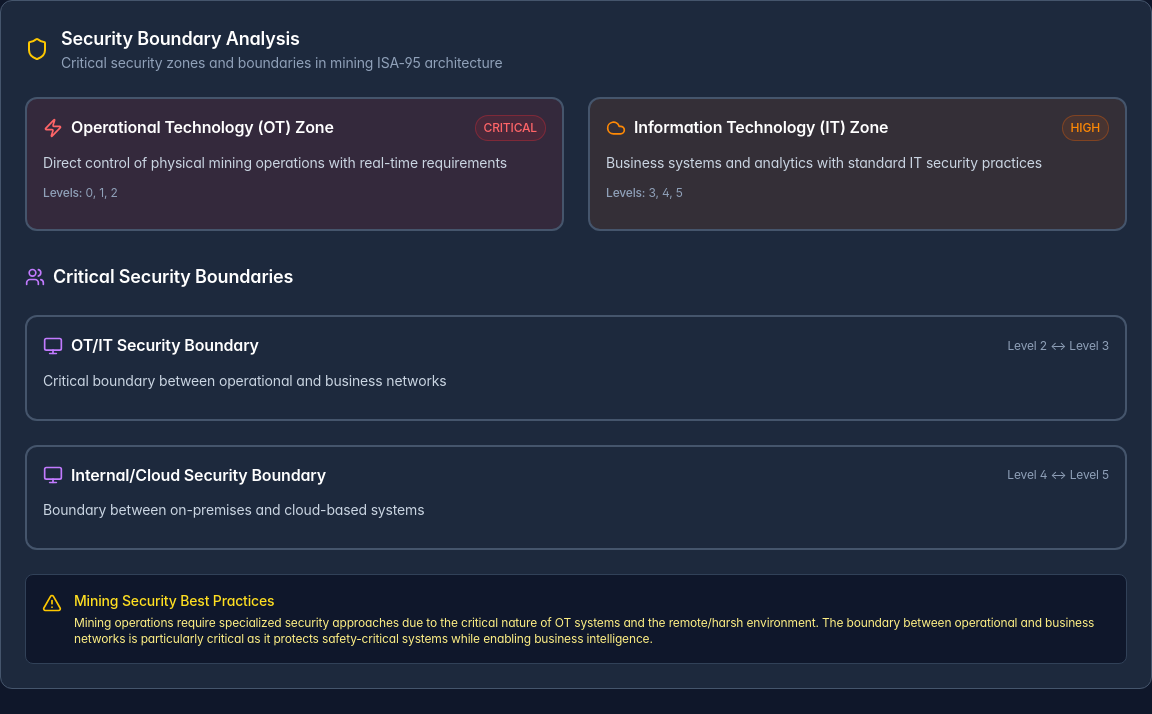
Test: SecurityBoundaryHighlight › expands boundary details when clicked
Click the text "OT/IT Security Boundary" at coordinates (151, 346), box [43, 333, 259, 359]
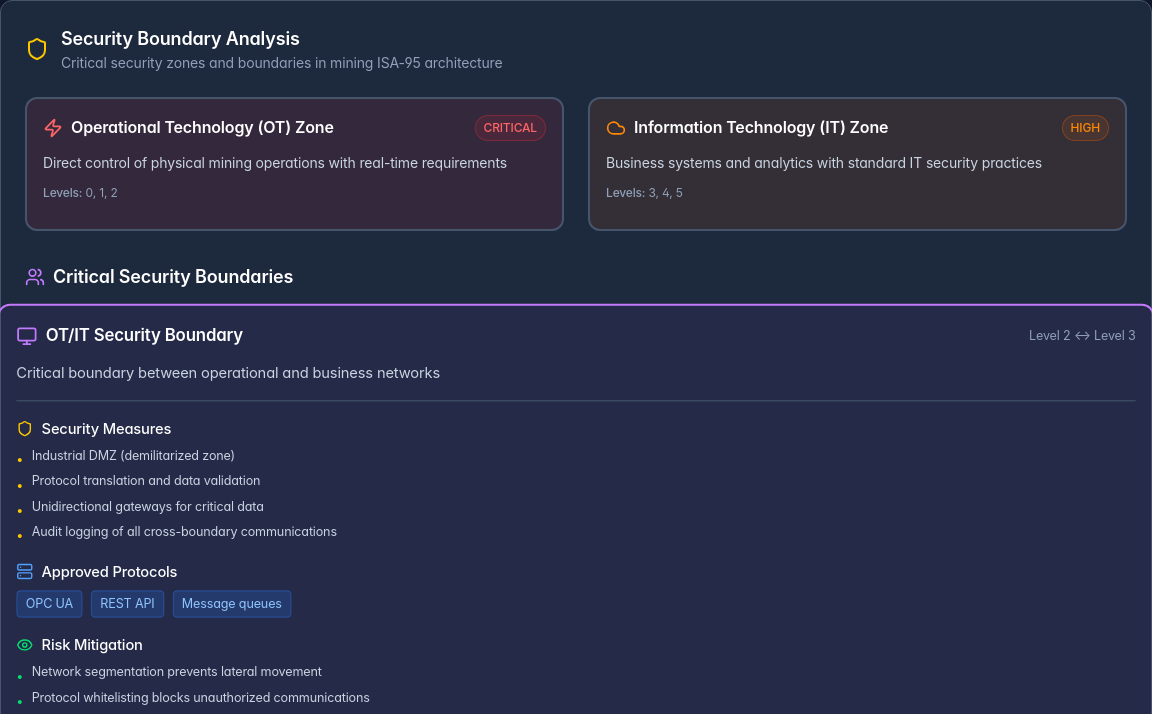
Check: the text "Security Measures" is shown, box [42, 418, 171, 439]
Check: the text "Approved Protocols" is shown, box [42, 560, 177, 582]
Check: the text "Risk Mitigation" is shown, box [42, 634, 143, 655]
